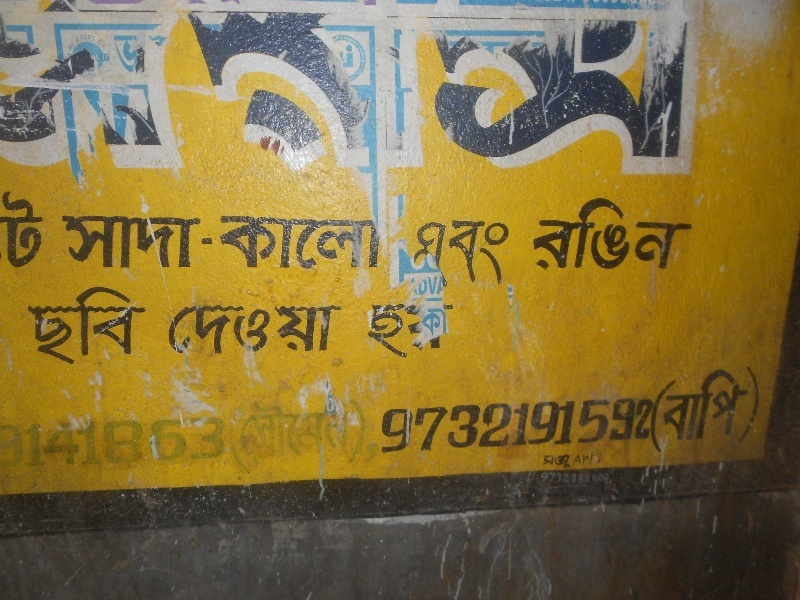text: (17, 2, 32, 159), (33, 2, 48, 159), (49, 2, 64, 159), (65, 2, 80, 159), (81, 2, 96, 159), (97, 2, 112, 159), (113, 2, 128, 159), (129, 2, 144, 159), (145, 2, 160, 159), (161, 2, 176, 159), (177, 2, 192, 159), (193, 2, 208, 159), (209, 2, 224, 159), (225, 2, 240, 159), (241, 2, 256, 159), (257, 2, 272, 159), (273, 2, 288, 159), (289, 2, 304, 159), (305, 2, 320, 159), (321, 2, 336, 159), (337, 2, 352, 159), (353, 2, 368, 159), (369, 2, 384, 159), (385, 2, 400, 159), (401, 2, 416, 159), (417, 2, 432, 159), (433, 2, 448, 159), (449, 2, 464, 159), (465, 2, 480, 159), (481, 2, 496, 159), (497, 2, 512, 159), (513, 2, 528, 159), (529, 2, 544, 159), (545, 2, 560, 159), (561, 2, 576, 159), (577, 2, 592, 159), (593, 2, 608, 159), (609, 2, 624, 159), (625, 2, 640, 159), (641, 2, 656, 159), (657, 2, 672, 159), (673, 2, 688, 159), (2, 2, 16, 159), (673, 361, 688, 461), (689, 361, 704, 461), (705, 361, 720, 461), (721, 361, 736, 461), (737, 361, 752, 461), (659, 361, 672, 461), (33, 284, 48, 367), (49, 284, 64, 367), (65, 284, 80, 367), (81, 284, 96, 367), (97, 284, 112, 367), (113, 284, 128, 367), (129, 284, 144, 367), (241, 395, 256, 478), (257, 395, 272, 478), (273, 395, 288, 478), (289, 395, 304, 478), (305, 395, 320, 478), (321, 395, 336, 478), (337, 395, 352, 478), (353, 395, 368, 478), (17, 190, 32, 271), (33, 190, 48, 271), (753, 361, 765, 461), (545, 195, 560, 273), (561, 195, 576, 273), (577, 195, 592, 273), (593, 195, 608, 273), (609, 195, 624, 273), (625, 195, 640, 273), (641, 195, 656, 273), (657, 195, 672, 273), (673, 195, 688, 273), (689, 195, 703, 273), (65, 208, 80, 277), (81, 208, 96, 277), (97, 208, 112, 277), (113, 208, 128, 277), (129, 208, 144, 277), (145, 208, 160, 277), (161, 208, 176, 277), (177, 208, 192, 277), (193, 208, 208, 277), (417, 220, 432, 288), (433, 220, 448, 288), (449, 220, 464, 288), (465, 220, 480, 288), (481, 220, 496, 288), (4, 190, 16, 271), (497, 220, 511, 288), (229, 395, 240, 478), (369, 395, 380, 478), (369, 299, 384, 359), (385, 299, 400, 359), (401, 299, 416, 359), (417, 299, 432, 359), (433, 299, 448, 359), (369, 398, 384, 455), (385, 398, 400, 455), (401, 398, 416, 455), (417, 398, 432, 455), (433, 398, 448, 455), (449, 398, 464, 455), (465, 398, 480, 455), (481, 398, 496, 455), (497, 398, 512, 455), (513, 398, 528, 455), (529, 398, 544, 455), (545, 398, 560, 455), (561, 398, 576, 455), (577, 398, 592, 455), (593, 398, 608, 455), (609, 398, 624, 455), (625, 398, 640, 455), (209, 217, 224, 274), (225, 217, 240, 274), (241, 217, 256, 274), (257, 217, 272, 274), (273, 217, 288, 274), (289, 217, 304, 274), (305, 217, 320, 274), (321, 217, 336, 274), (337, 217, 352, 274), (353, 217, 368, 274), (369, 217, 384, 274), (1, 417, 16, 474), (17, 417, 32, 474), (33, 417, 48, 474), (49, 417, 64, 474), (65, 417, 80, 474), (81, 417, 96, 474), (97, 417, 112, 474), (113, 417, 128, 474), (129, 417, 144, 474), (145, 417, 160, 474), (161, 417, 176, 474), (177, 417, 192, 474), (193, 417, 208, 474), (209, 417, 224, 474), (177, 301, 192, 357), (193, 301, 208, 357), (209, 301, 224, 357), (225, 301, 240, 357), (241, 301, 256, 357), (257, 301, 272, 357), (273, 301, 288, 357), (289, 301, 304, 357), (305, 301, 320, 357), (321, 301, 336, 357), (404, 220, 416, 288), (641, 398, 654, 455), (536, 195, 544, 273), (449, 299, 459, 359), (26, 284, 32, 367), (145, 284, 150, 367), (209, 208, 215, 277), (337, 301, 344, 357), (417, 276, 432, 302), (433, 276, 447, 302), (59, 208, 64, 277), (203, 217, 208, 274), (172, 301, 176, 357), (545, 455, 560, 468), (577, 452, 592, 465), (545, 472, 560, 485), (561, 472, 576, 485), (577, 472, 592, 485), (593, 472, 608, 485), (409, 276, 416, 302), (225, 417, 228, 474), (689, 2, 690, 159), (561, 455, 571, 468), (593, 452, 600, 465), (529, 472, 536, 482), (367, 398, 368, 455), (385, 217, 386, 274), (609, 472, 612, 485), (574, 452, 576, 465), (542, 472, 544, 485), (543, 455, 544, 468)
